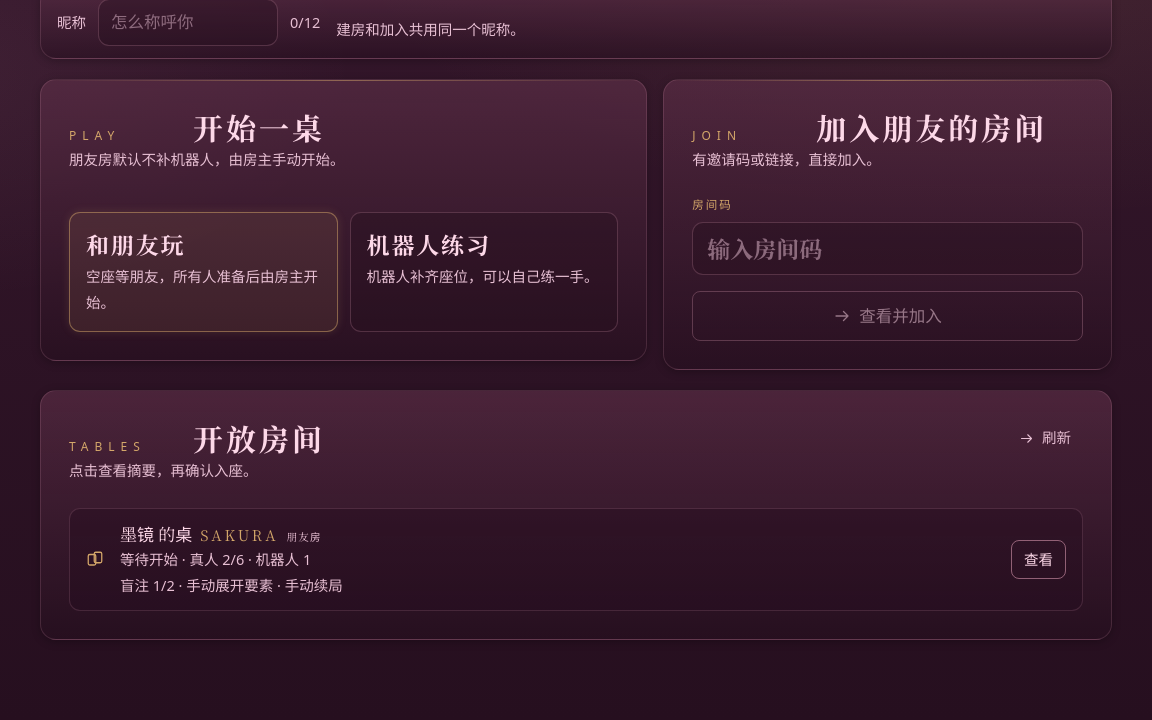
Test case: LobbyPage 统一加入流程 › 列表「查看」与输入房间码共用预览流程
The image size is (1152, 720).
(page scrolled)
Expected: the text "SAKURA" is shown, 200,524 -> 279,545
Click the button with aria-label "查看 SAKURA" at (1038, 559), box 1011,540 -> 1066,579
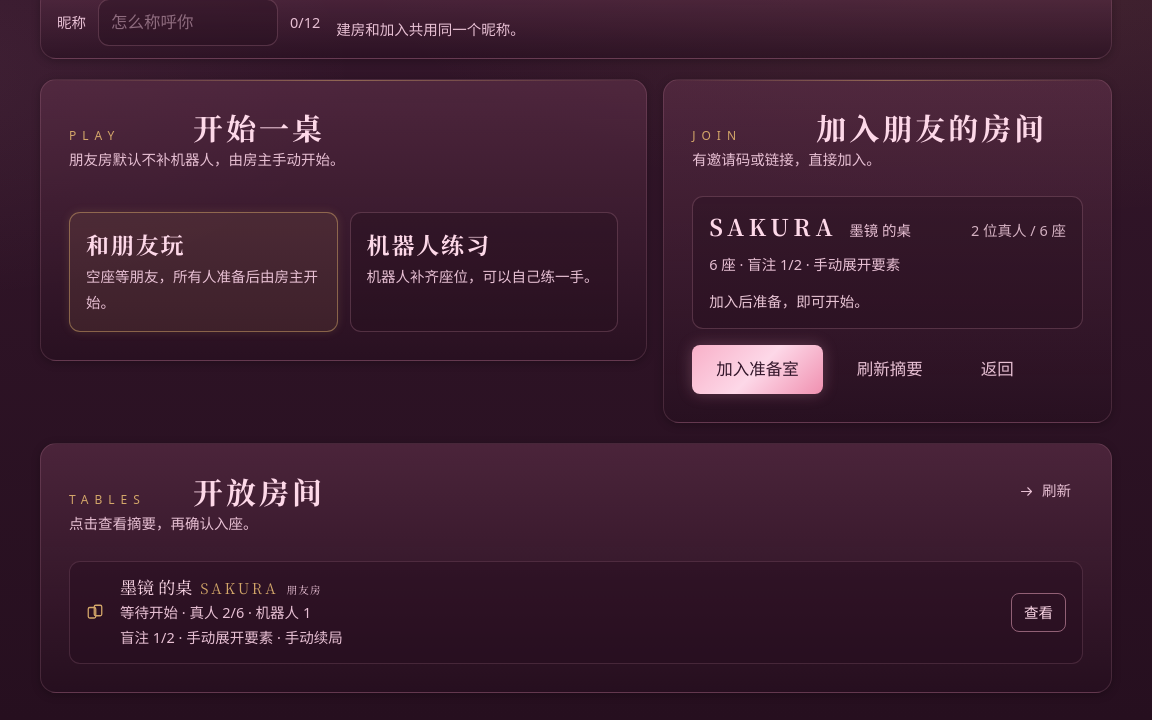
Expected: the element with test id "join-preview" is shown, 692,196 -> 1083,394
